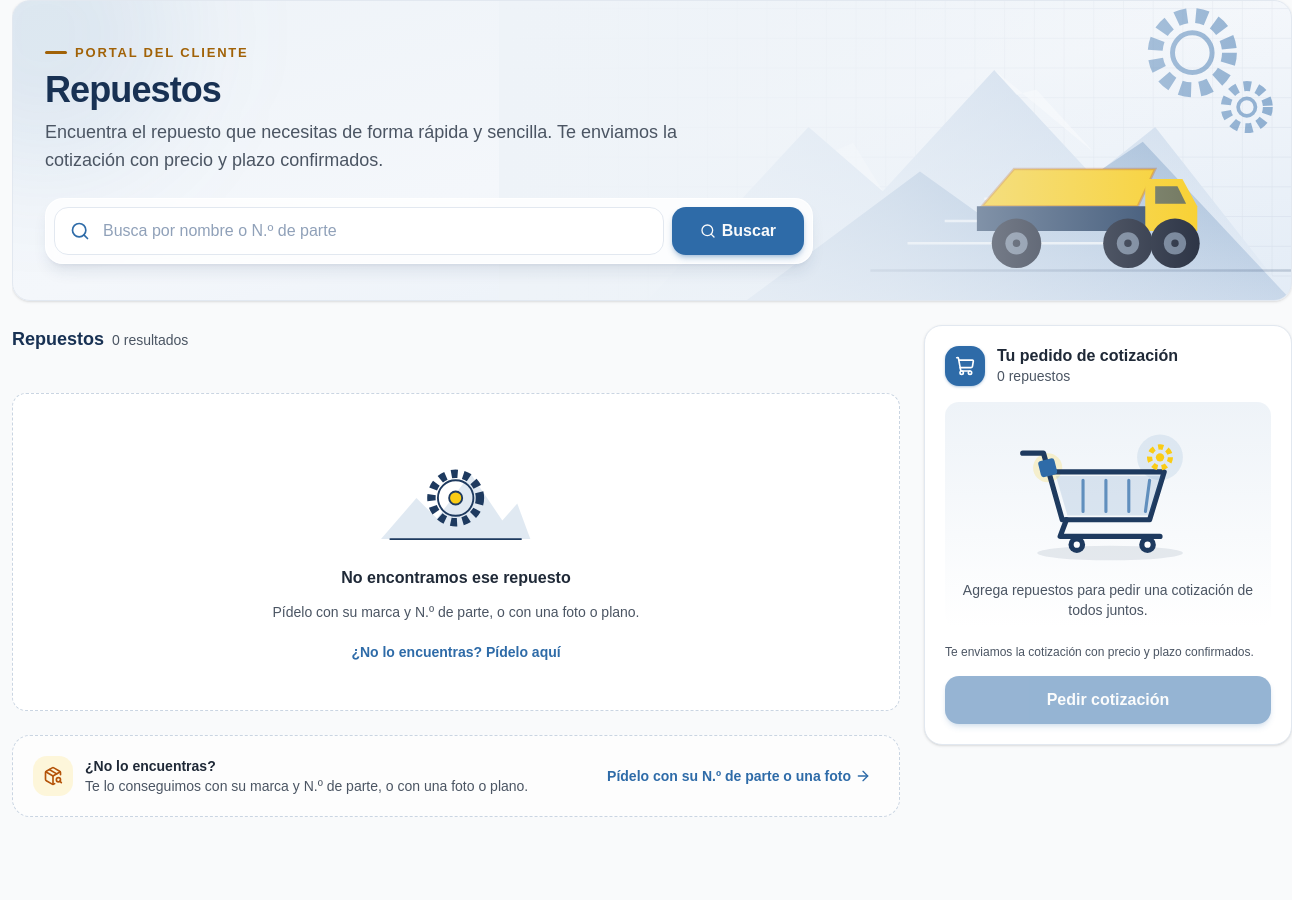
Test: Estados de carga del portal: esqueletos en lugar de «Cargando...» › Buscar en Repuestos muestra «Buscando...» con spinner y se deshabilita mientras llega la respuesta
Check: the heading "No encontramos ese repuesto" is shown, box x1=341 y1=566 x2=571 y2=590
Type "filtro" into the search field with placeholder "Busca por nombre o N.º de parte" at (359, 231), box x1=54 y1=207 x2=664 y2=255
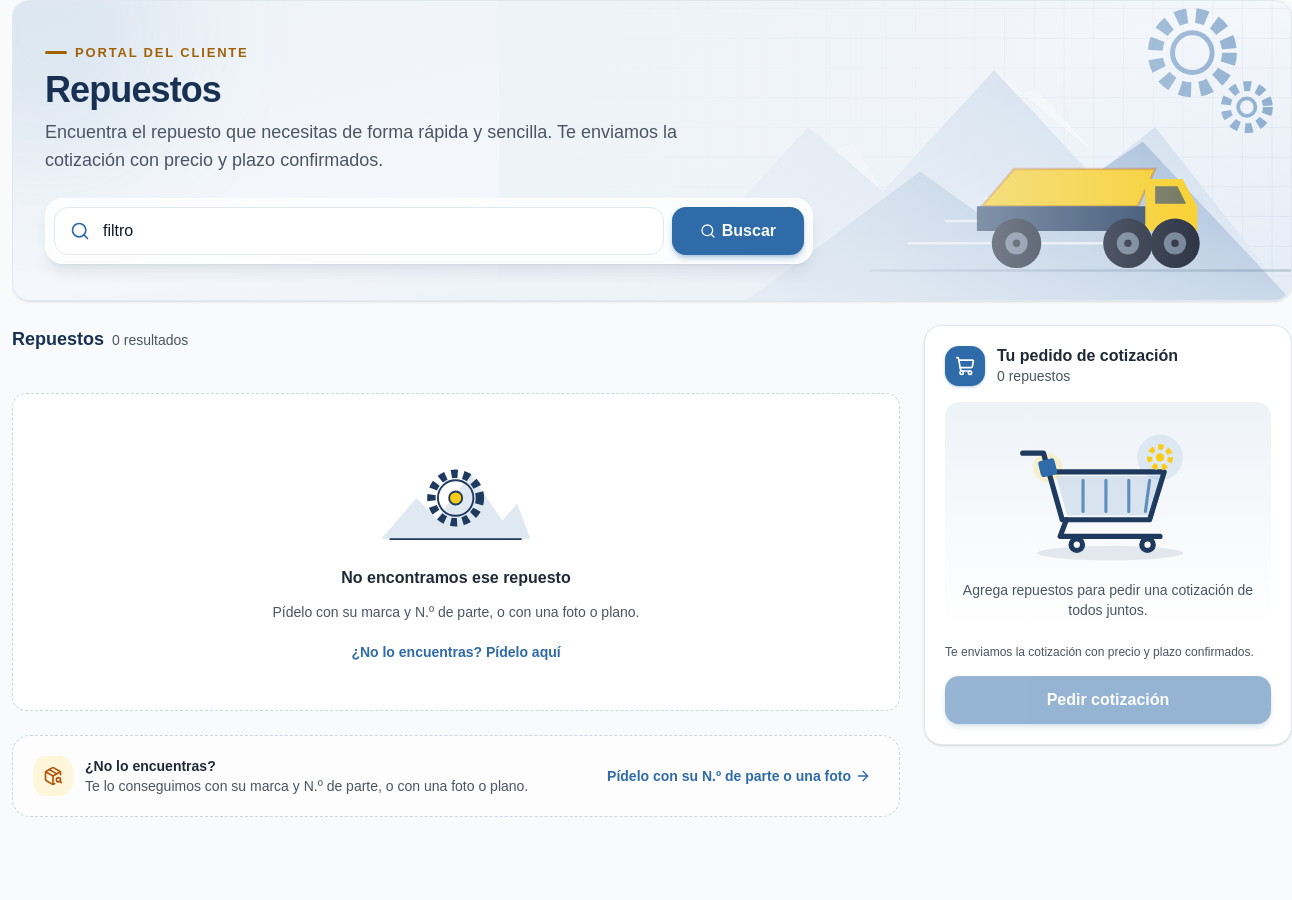
Click the button "Buscar" at (738, 231), box x1=672 y1=207 x2=804 y2=255
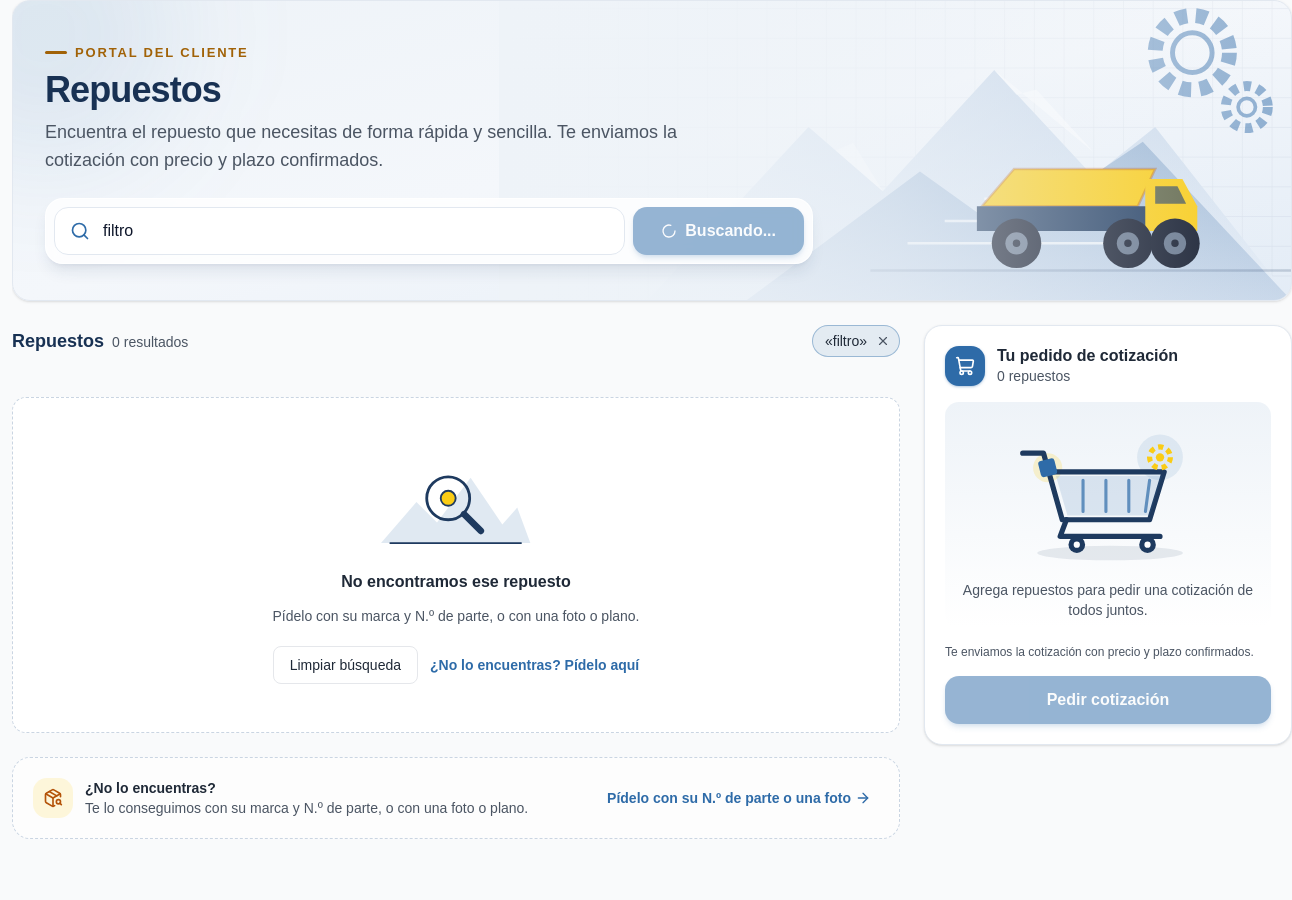
Check: the button "Buscando..." is disabled, box x1=633 y1=207 x2=804 y2=255
